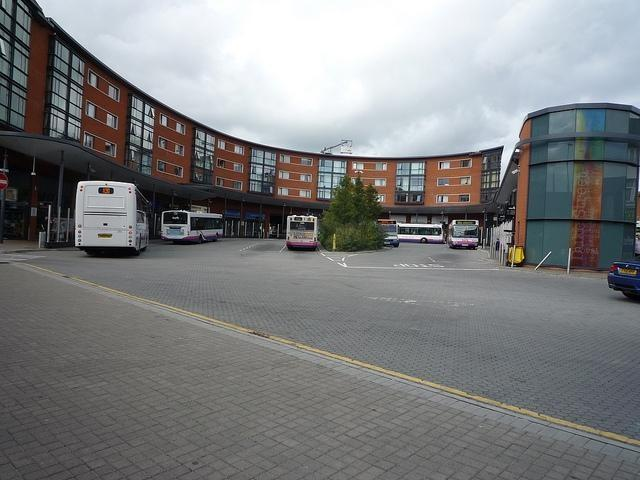bus: (76, 179, 154, 256), (158, 212, 232, 242), (398, 224, 448, 246), (286, 216, 317, 249), (448, 221, 480, 250), (378, 220, 400, 246)
car: (606, 258, 640, 304)
